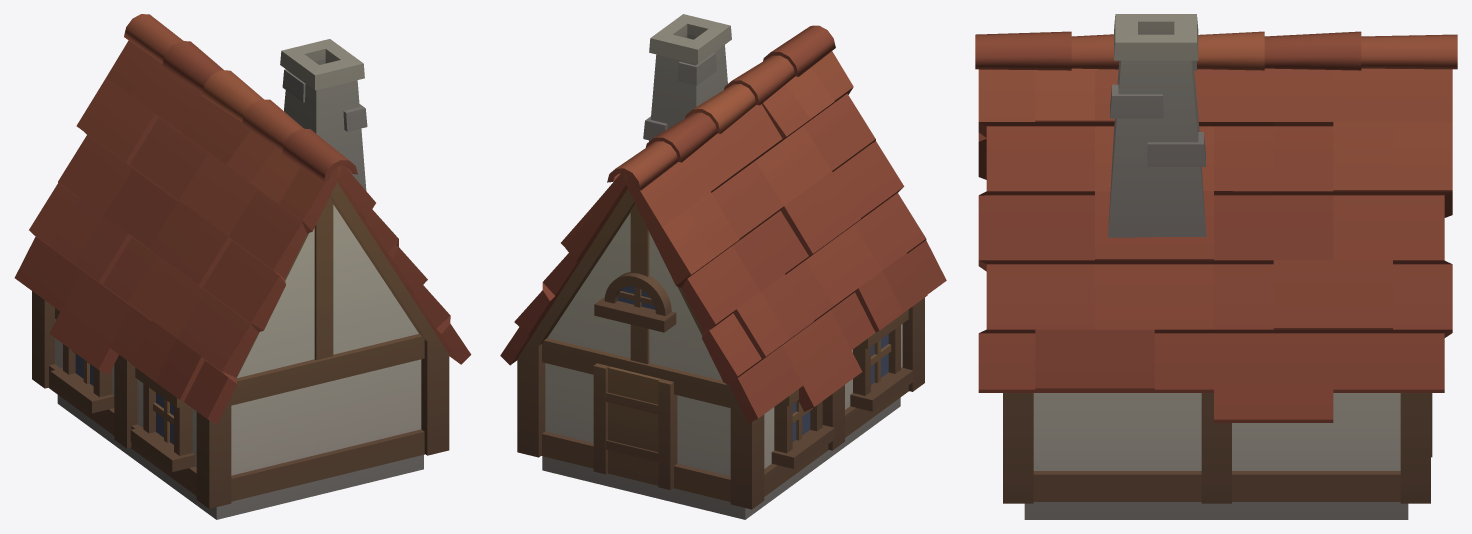
File: house2.fbx
3 renders of one model, left to right at view 1: azimuth 30°, elevation 25°; view 2: azimuth 150°, elevation 25°; view 3: azimuth 270°, elevation 25°, orthographic. The views are drawn at different scales.
Parts seen in each view (by area): view 1: house2; view 2: house2; view 3: house2.
Part boxes in pixels (x1,y1,x2,y2): house2: [14, 14, 471, 519]; house2: [500, 14, 946, 519]; house2: [975, 14, 1457, 519].
Bounding box in the file's own units: 261 × 335 × 315.
